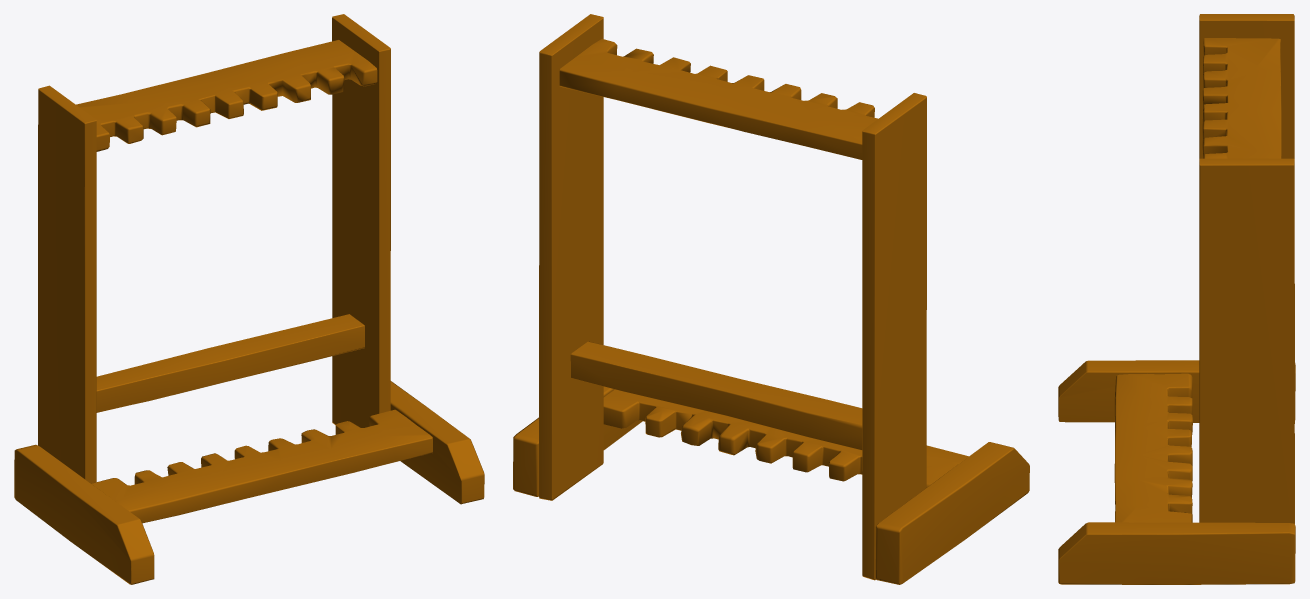
Rendered from Mod_weaponsRack01_LODs.fbx.
The picture shows the model from 3 angles, left to right: view 1: azimuth 30°, elevation 25°; view 2: azimuth 150°, elevation 25°; view 3: azimuth 270°, elevation 25°; orthographic projection. The views are drawn at different scales.
Parts seen in each view (by area): view 1: rack01_LOD0; view 2: rack01_LOD0; view 3: rack01_LOD0.
Boxes of the visible parts, left/top/right/bottom form: rack01_LOD0: left=14, top=14, right=484, bottom=584; rack01_LOD0: left=513, top=14, right=1029, bottom=584; rack01_LOD0: left=1058, top=14, right=1295, bottom=584.
Size of the model in its own units: 124 by 136 by 71.16.
